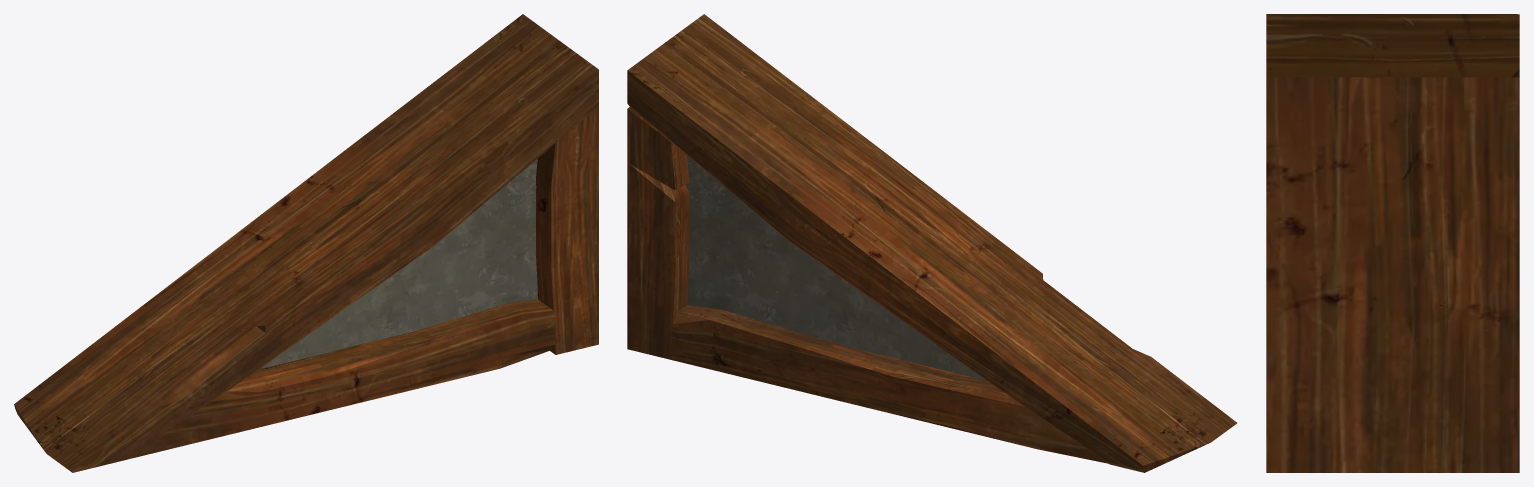
3 renders of one model, left to right at view 1: azimuth 30°, elevation 25°; view 2: azimuth 150°, elevation 25°; view 3: azimuth 270°, elevation 25°, orthographic. The views are drawn at different scales.
Parts seen in each view (by area): view 1: SM_BB_T2_Wall_Slanted_Med_Shallow_LOD0; view 2: SM_BB_T2_Wall_Slanted_Med_Shallow_LOD0; view 3: SM_BB_T2_Wall_Slanted_Med_Shallow_LOD0.
Boxes of the visible parts, x1,y1,x2,y2 form: SM_BB_T2_Wall_Slanted_Med_Shallow_LOD0: [14, 14, 598, 472]; SM_BB_T2_Wall_Slanted_Med_Shallow_LOD0: [627, 14, 1237, 472]; SM_BB_T2_Wall_Slanted_Med_Shallow_LOD0: [1266, 14, 1519, 472].
Bounding box in the file's own units: 1.5 × 0.7498 × 0.375.
2 materials, 2 textured.
